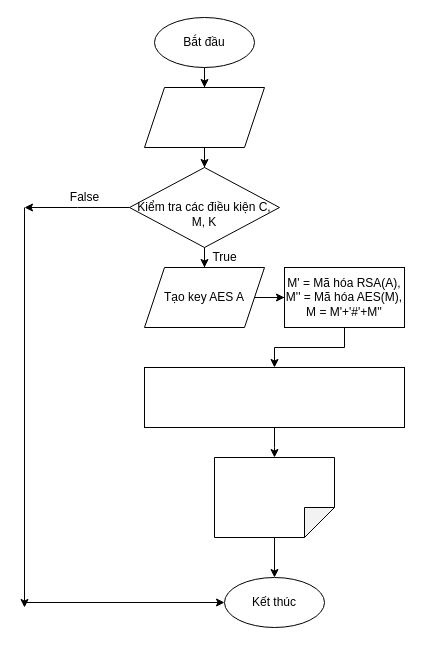
Some shapes in this 422 by 645 pixel diagram are drawn without their labels. The shapes that lost their labels are listed below. From the top down, each one's centre as x and y in pixels, then its label:
the point at 204,117: Chọn ảnh C, Message M, Public Key K
the point at 274,397: Giấu M vào C theo cơ chế LSB
the point at 274,497: Ảnh chứa tin mật C'
